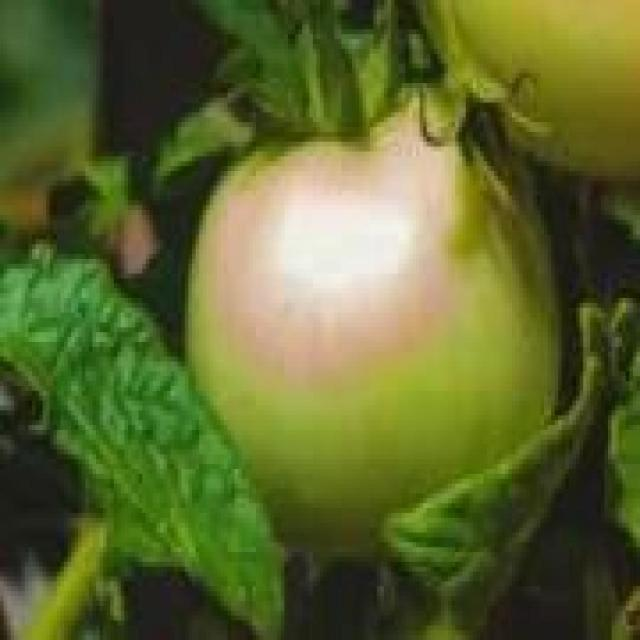Sunscald Fruit: (140, 70, 311, 259)
